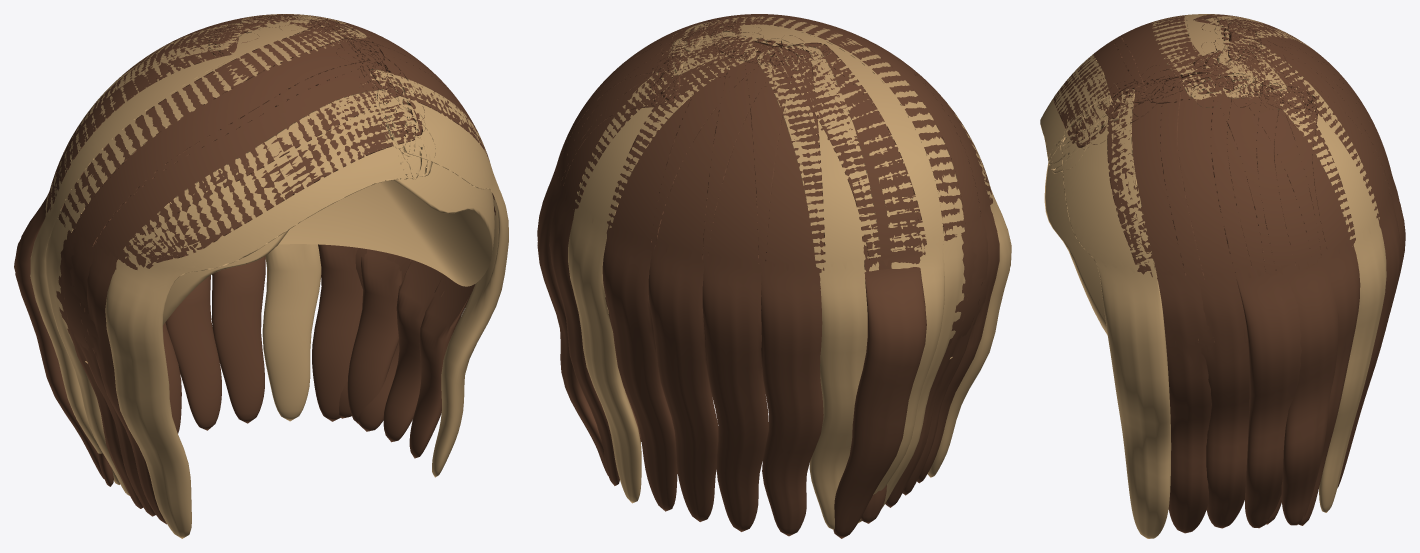
The model's file is Highlights-75841277d4f9251-hair.glb.
3 renders of one model, left to right at view 1: azimuth 30°, elevation 25°; view 2: azimuth 150°, elevation 25°; view 3: azimuth 270°, elevation 25°, orthographic. The views are drawn at different scales.
Parts seen in each view (by area): view 1: 226 hair / Hair / sculpted 0.002, 226 hair / Hair / sculpted 1.004, 226 hair / Hair / sculpted 2.002, 226 hair / Hair / sculpted 1.003; view 2: 226 hair / Hair / sculpted 0.002, 226 hair / Hair / sculpted 2.002, 226 hair / Hair / sculpted 1.004; view 3: 226 hair / Hair / sculpted 1.004, 226 hair / Hair / sculpted 2.002, 226 hair / Hair / sculpted 0.002, 226 hair / Hair / sculpted 1.003.
Boxes of the visible parts, x1=… form: 226 hair / Hair / sculpted 0.002: x1=14, y1=14, x2=454, y2=538; 226 hair / Hair / sculpted 1.004: x1=45, y1=14, x2=508, y2=524; 226 hair / Hair / sculpted 2.002: x1=30, y1=14, x2=495, y2=516; 226 hair / Hair / sculpted 1.003: x1=85, y1=162, x2=494, y2=363; 226 hair / Hair / sculpted 0.002: x1=568, y1=14, x2=1011, y2=538; 226 hair / Hair / sculpted 2.002: x1=537, y1=14, x2=989, y2=529; 226 hair / Hair / sculpted 1.004: x1=537, y1=14, x2=999, y2=536; 226 hair / Hair / sculpted 1.004: x1=1053, y1=14, x2=1400, y2=538; 226 hair / Hair / sculpted 2.002: x1=1077, y1=14, x2=1405, y2=533; 226 hair / Hair / sculpted 0.002: x1=1040, y1=14, x2=1399, y2=528; 226 hair / Hair / sculpted 1.003: x1=1044, y1=163, x2=1107, y2=334.
Size of the model in its own units: 0.9945 by 1.06 by 0.7967.
